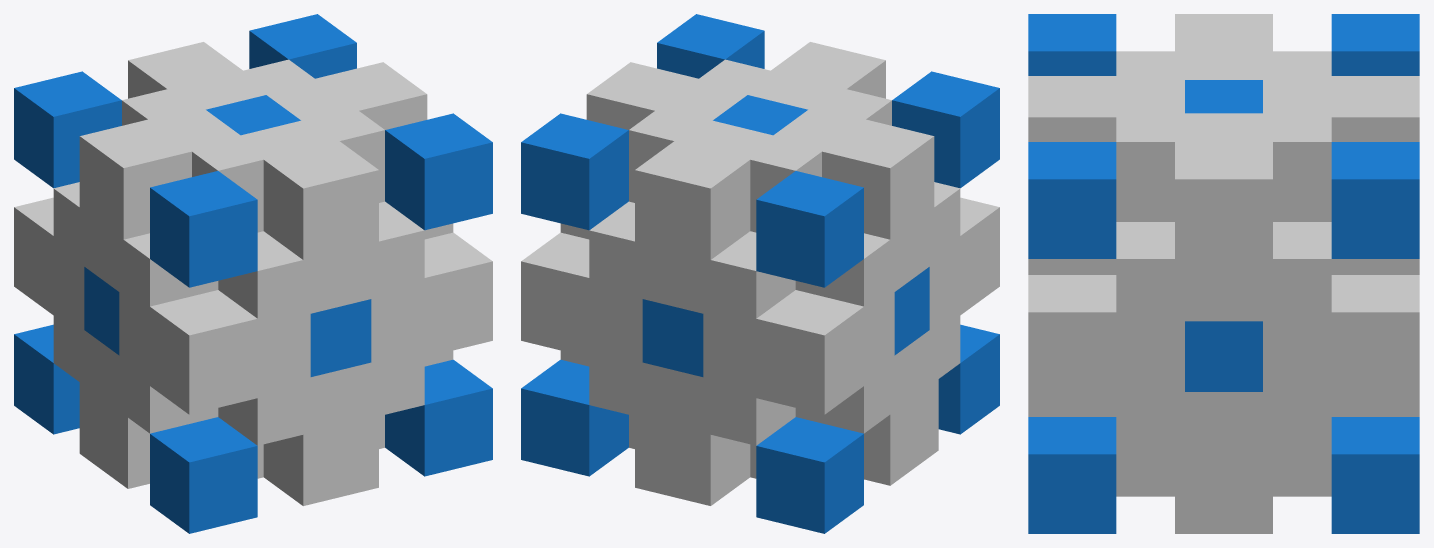
The model's file is CBObj.fbx.
The picture shows the model from 3 angles, left to right: view 1: azimuth 30°, elevation 25°; view 2: azimuth 150°, elevation 25°; view 3: azimuth 270°, elevation 25°; orthographic projection. The views are drawn at different scales.
Visible parts, largest first — view 1: ObjObject; view 2: ObjObject; view 3: ObjObject.
Boxes of the visible parts, x1,y1,x2,y2 form: ObjObject: [14, 14, 492, 533]; ObjObject: [521, 14, 999, 533]; ObjObject: [1028, 14, 1419, 533].
Size of the model in its own units: 100 by 100 by 100.
